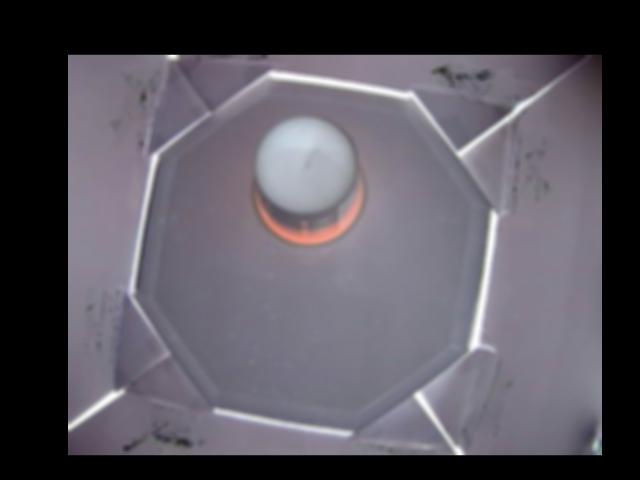Cup: (251, 113, 367, 249)
